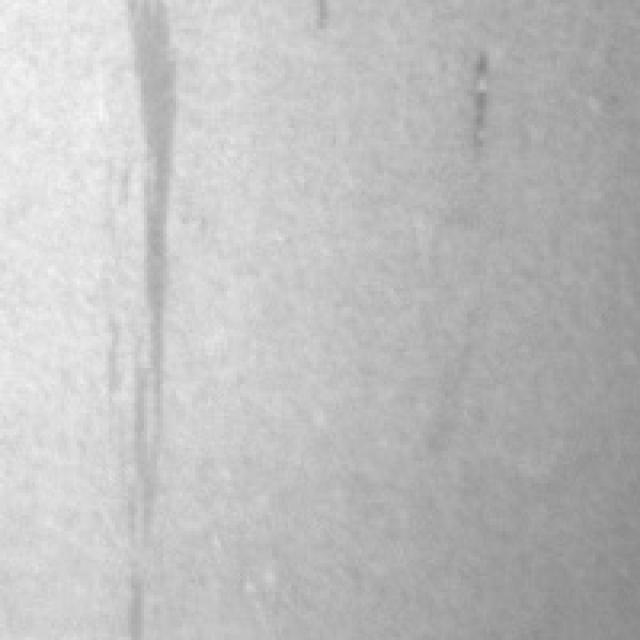inclusion: (96, 0, 195, 570), (454, 39, 506, 170)
